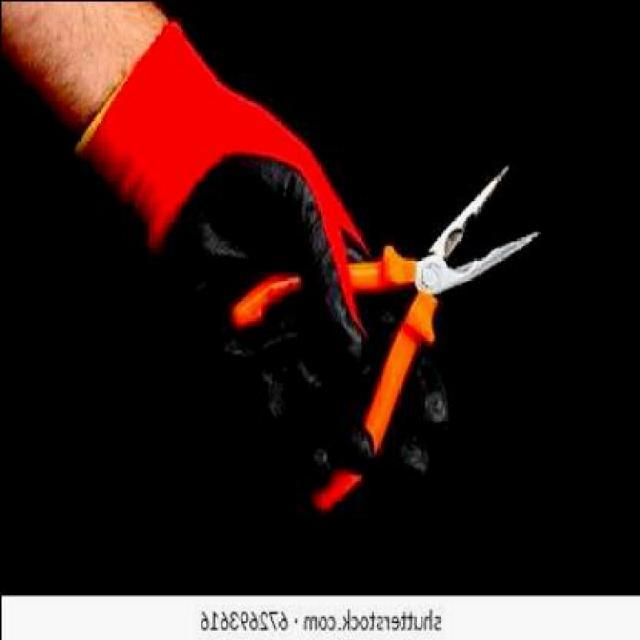pliers: (400, 158, 552, 332)
